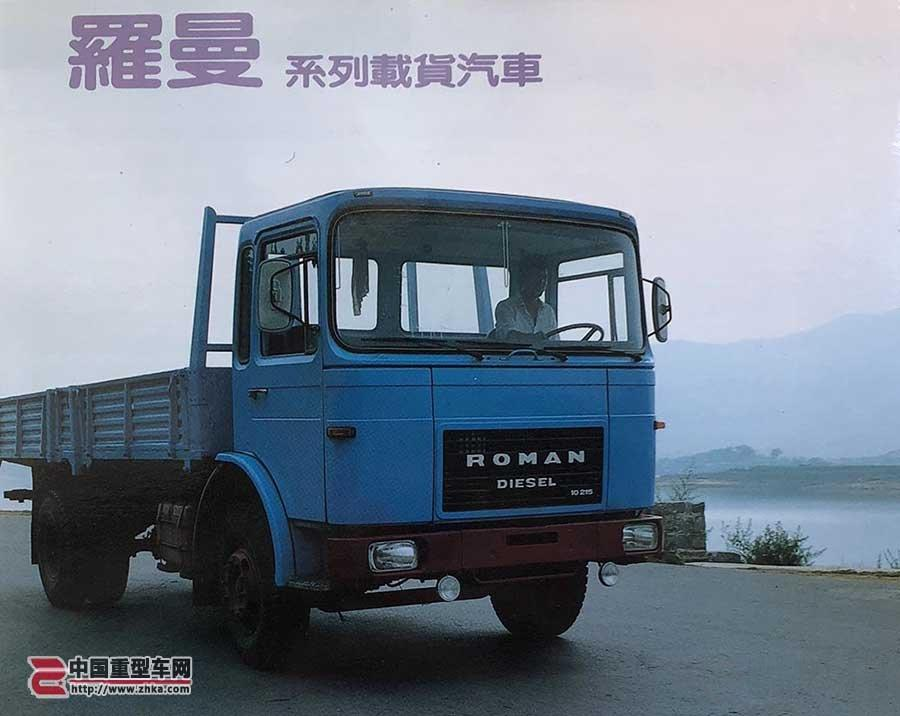truck: (1, 166, 677, 671)
